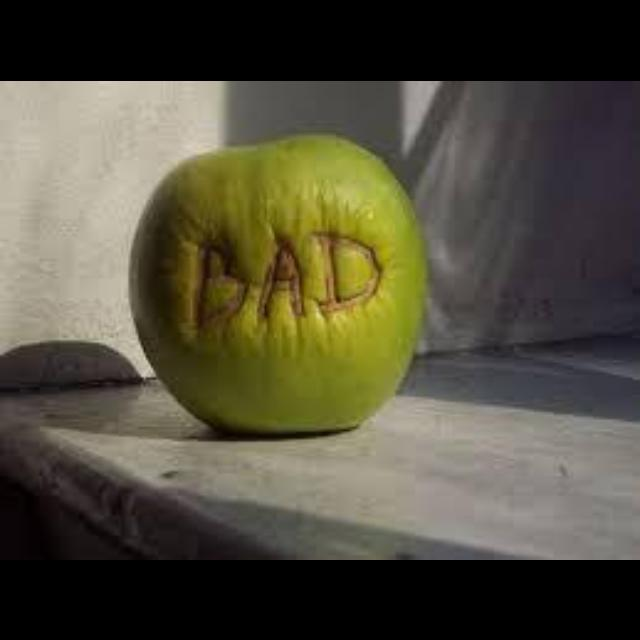apple: (128, 132, 425, 431)
